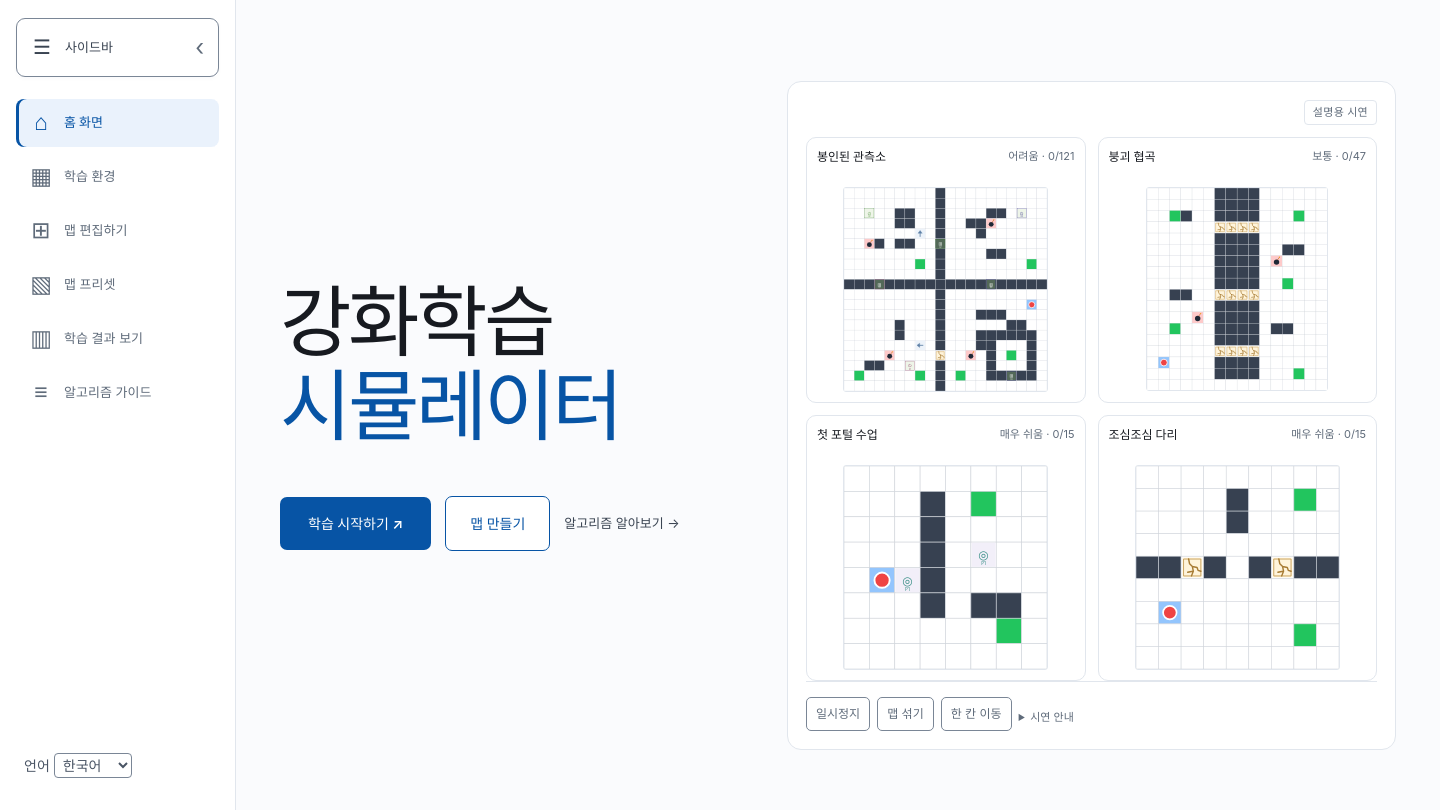
training-complete toast › appears once, as a small non-blocking status with this run’s real episode count
What coordinates should you click on to do the following:
click the button with test id "nav-environment"
I would click on:
 (118, 176)
Its box is 16,152 -> 219,200.
Wait 4000 ms
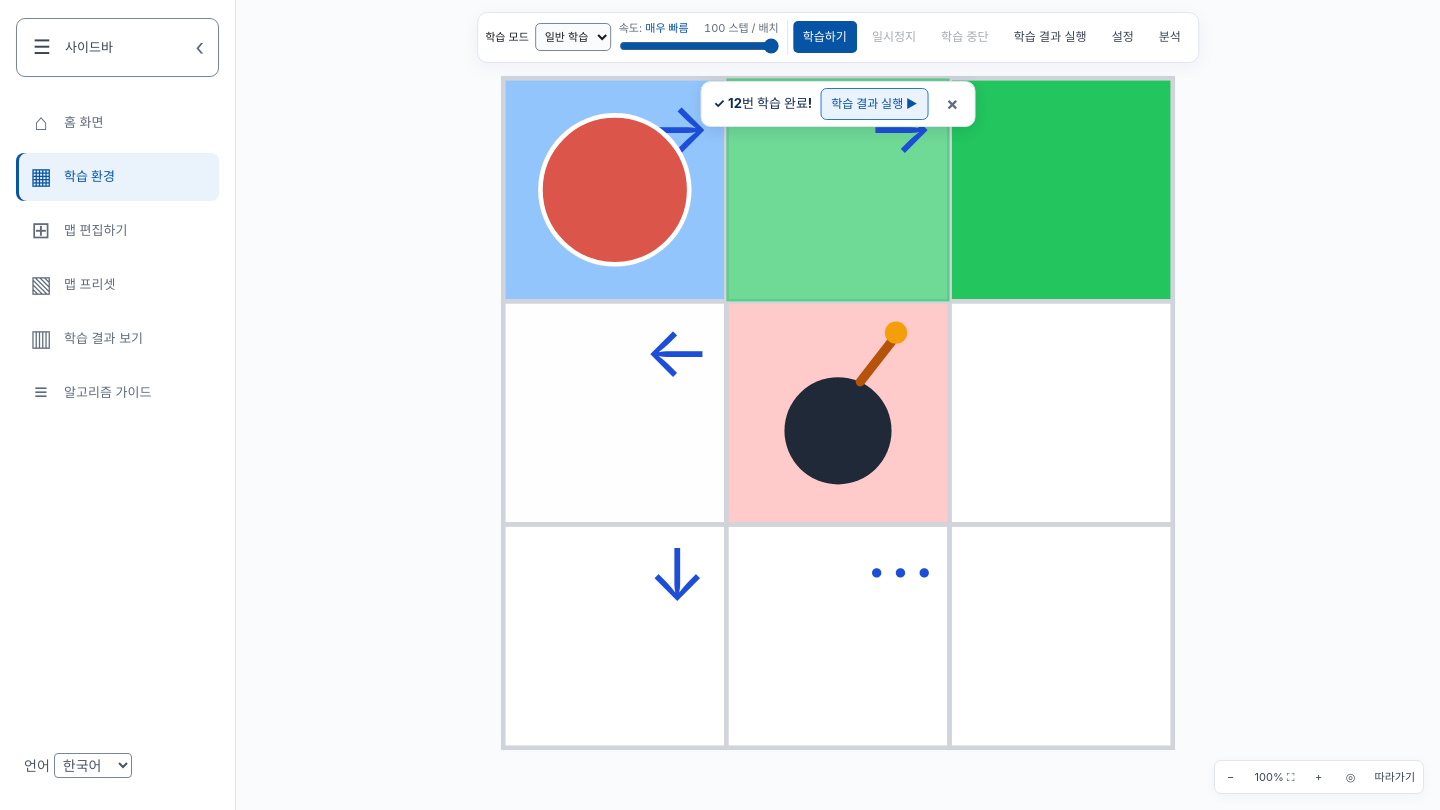
Check: the text with test id "completion-message" reads "12번 학습 완료!", box 728,95 -> 812,111
